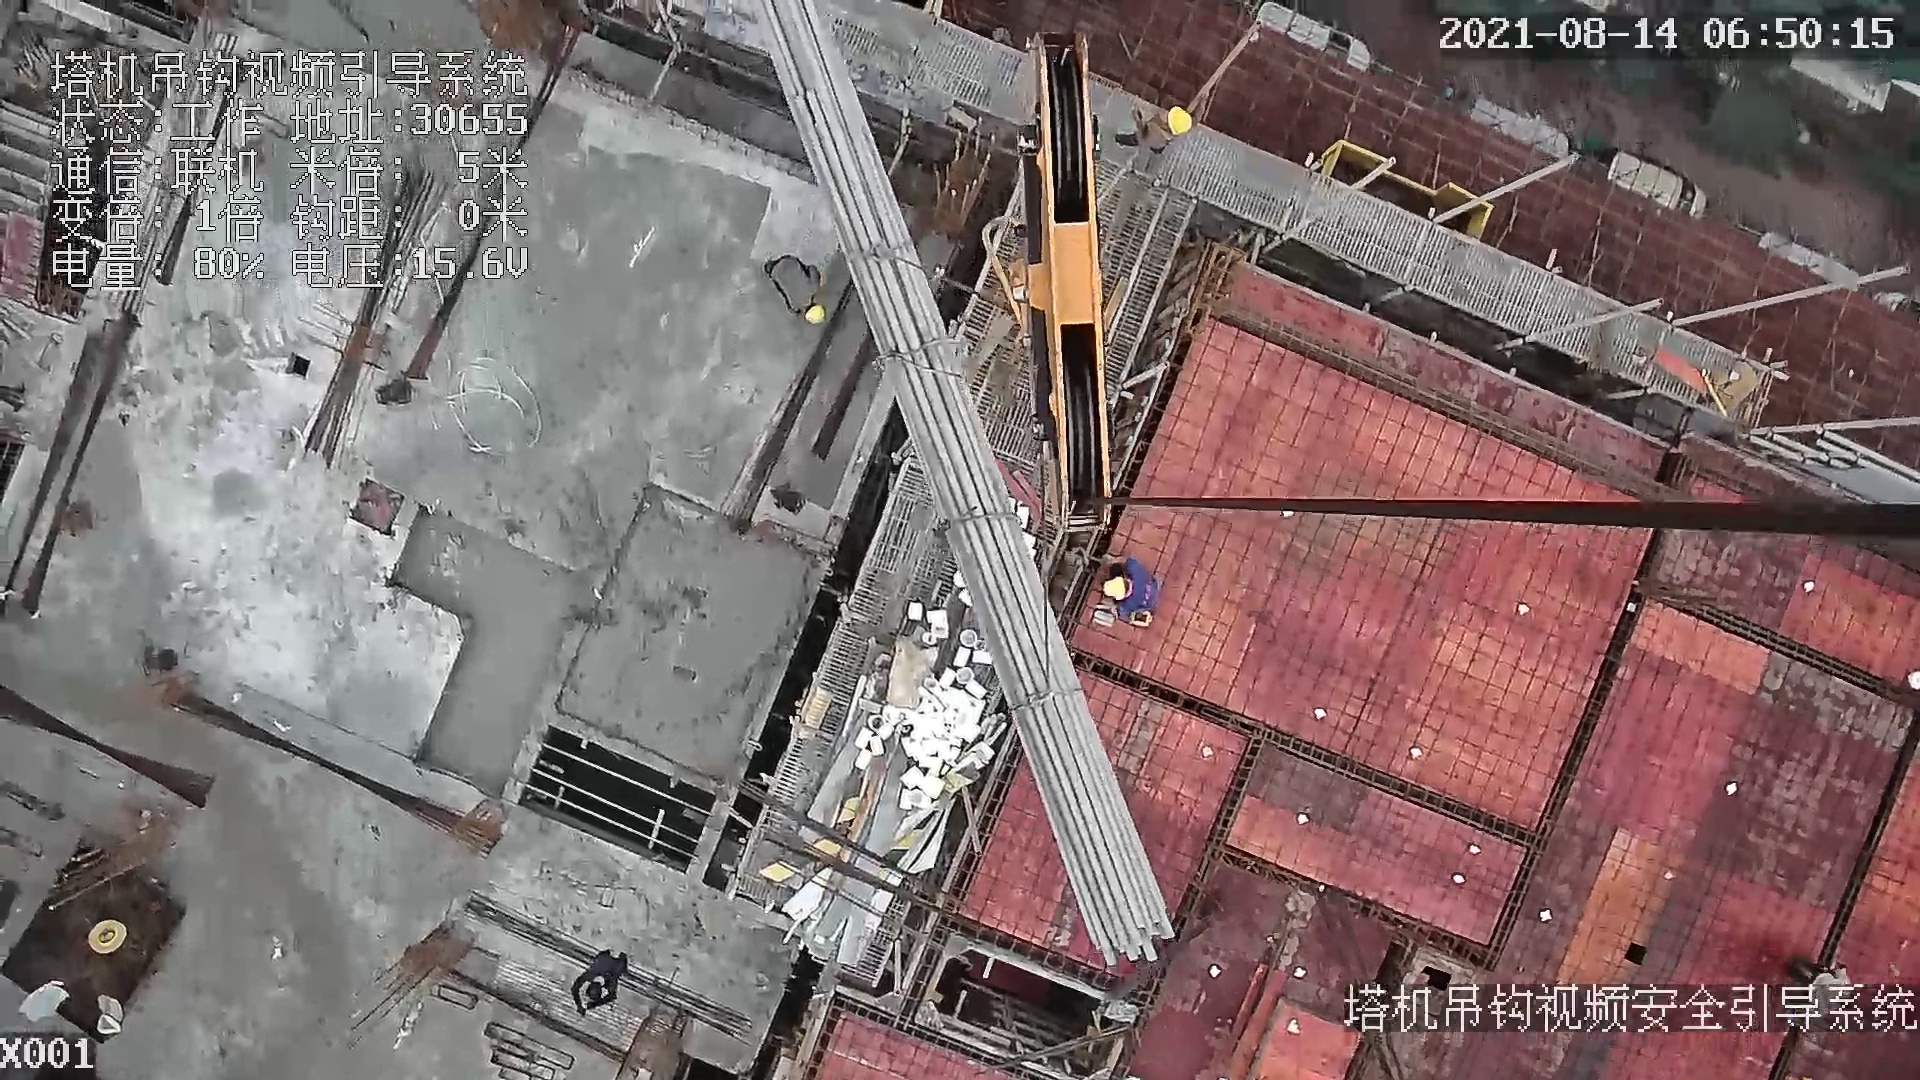helmet: (797, 291, 837, 335), (1164, 100, 1201, 142), (1097, 572, 1137, 604)
hook: (974, 19, 1123, 536)
person: (769, 235, 832, 347), (1088, 556, 1164, 637), (1135, 91, 1197, 184), (568, 946, 631, 1024)
